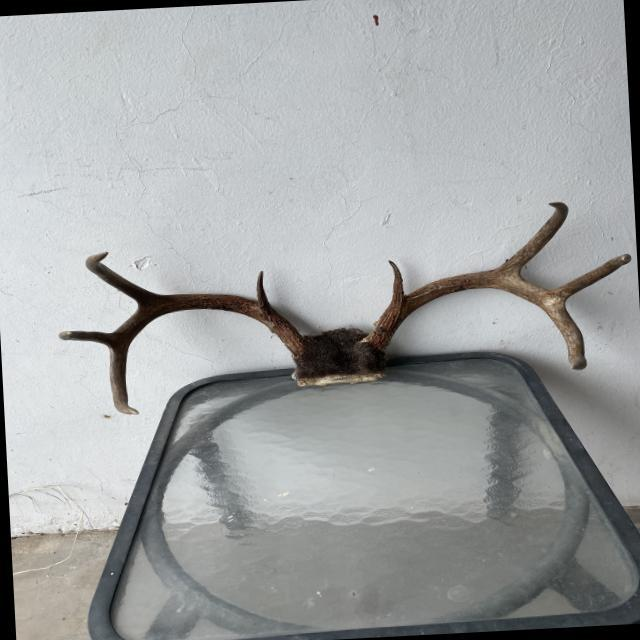L-F: (362, 271, 587, 370)
L-G1: (387, 260, 405, 309)
L-G2: (491, 202, 569, 278)
L-G3: (550, 254, 632, 306)
R-F: (109, 294, 312, 415)
R-G1: (257, 270, 275, 312)
R-G2: (85, 252, 163, 310)
R-G3: (58, 331, 118, 351)
